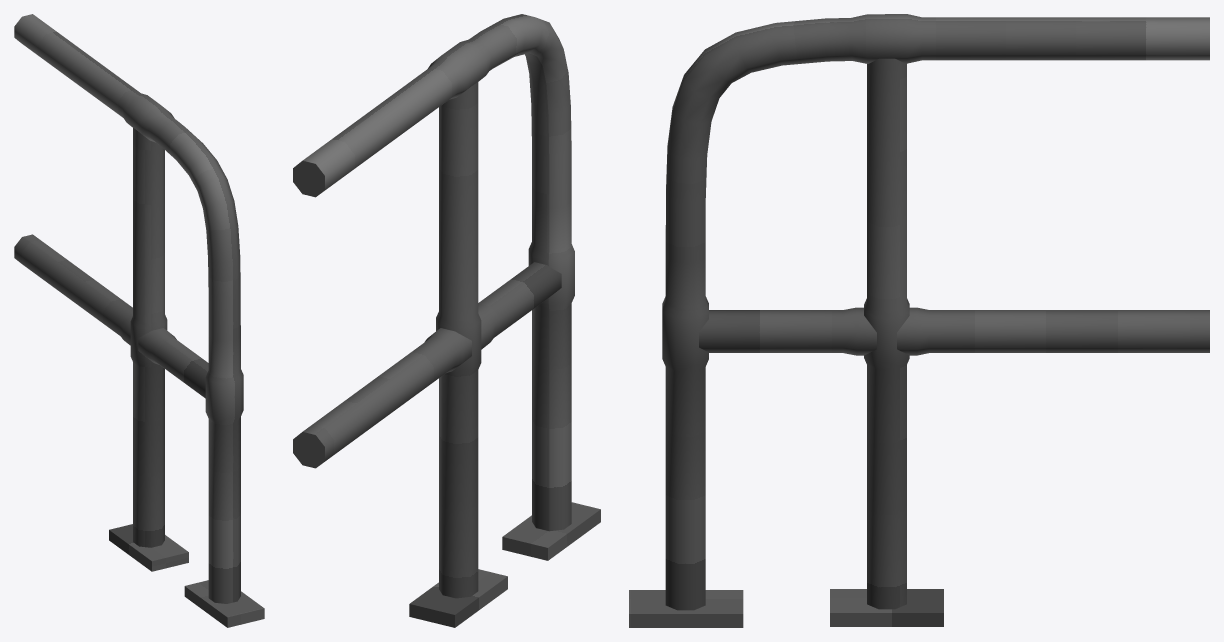
Rendered from railing_end_floor.obj.
The picture shows the model from 3 angles, left to right: view 1: azimuth 30°, elevation 25°; view 2: azimuth 150°, elevation 25°; view 3: azimuth 270°, elevation 25°; orthographic projection. The views are drawn at different scales.
Parts seen in each view (by area): view 1: railend_floor; view 2: railend_floor; view 3: railend_floor.
Part boxes in pixels (bbox=[...]): railend_floor: bbox=[14, 14, 264, 627]; railend_floor: bbox=[293, 14, 600, 627]; railend_floor: bbox=[629, 14, 1209, 627].
Bounding box in the file's own units: 0.088 × 1.02 × 0.8993.
